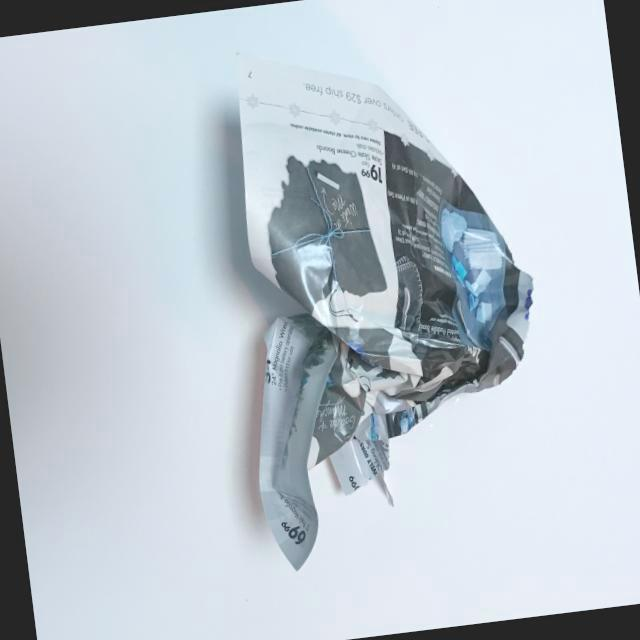paper: (147, 0, 611, 638)
